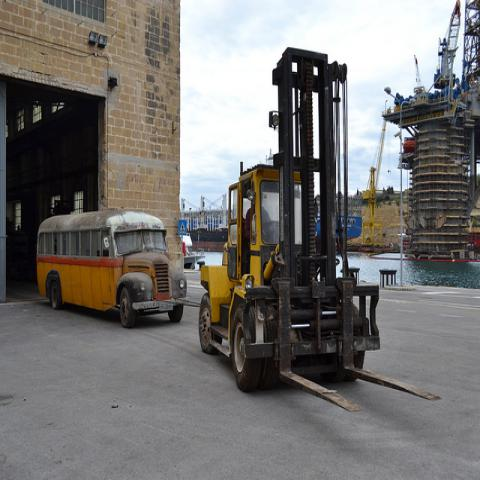bus: (36, 212, 189, 327)
